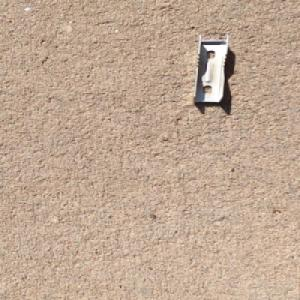ClampPart: (190, 32, 232, 105)
